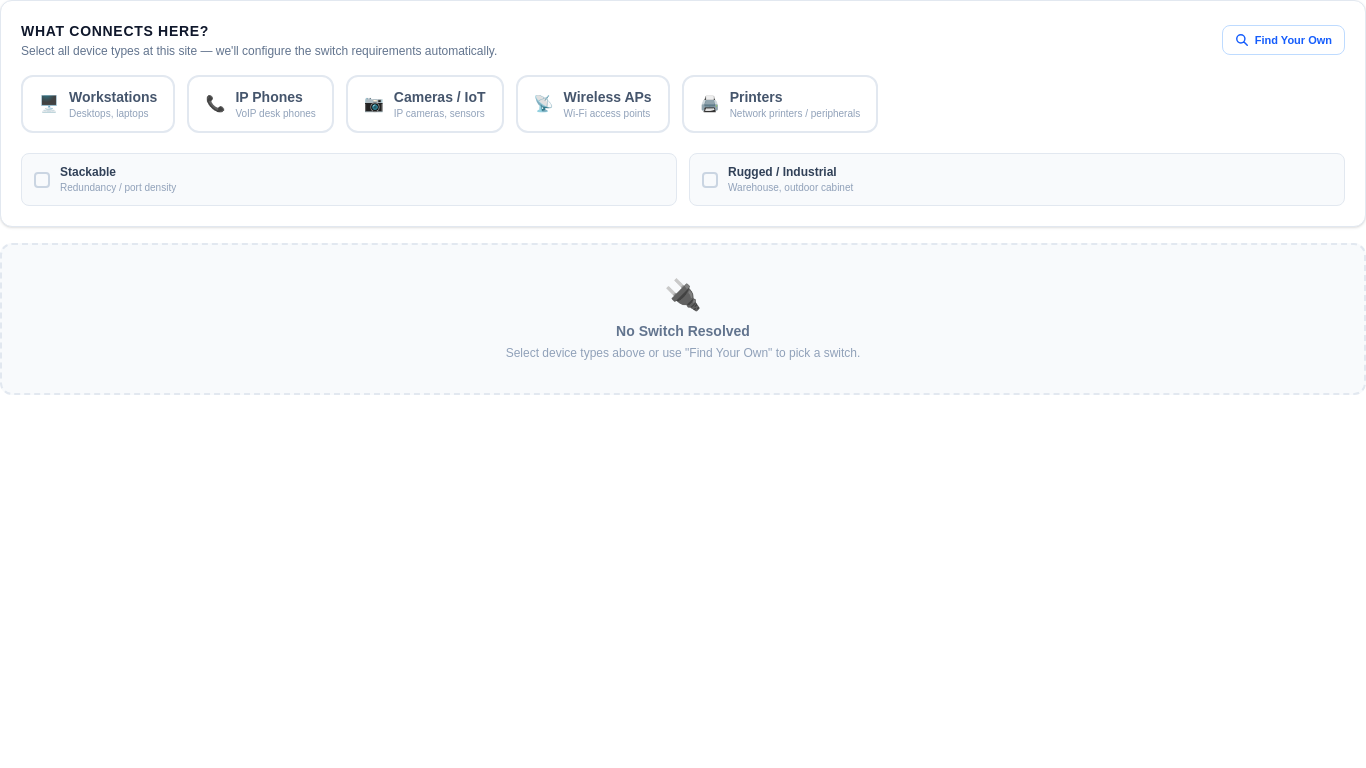
Scenario: LANTab Features › shows the Find Your Own button to open the catalog browser
Step 1. Click the button "Find Your Own" → [1283, 40], box [1222,25,1345,55]
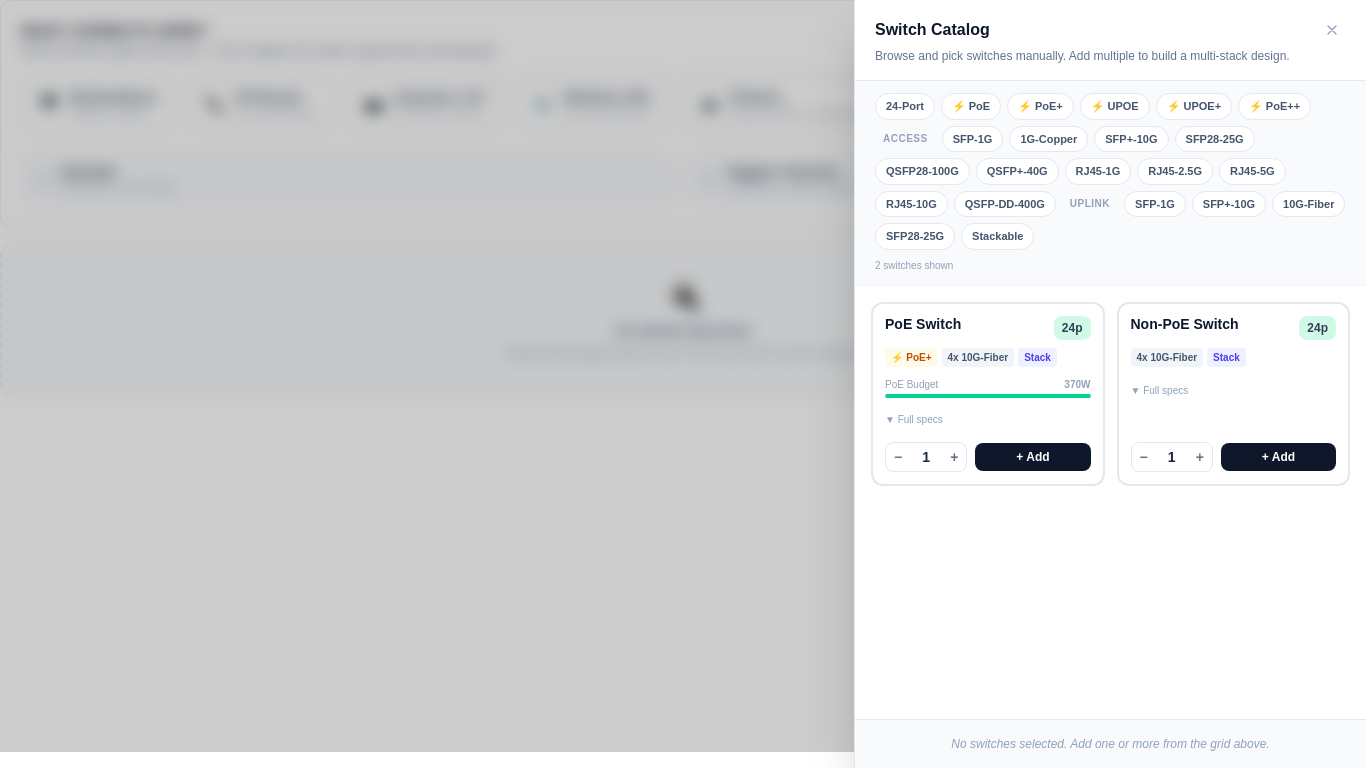
Expected: the dialog named "LAN Switch Catalog" is shown, [854,0,1365,767]
